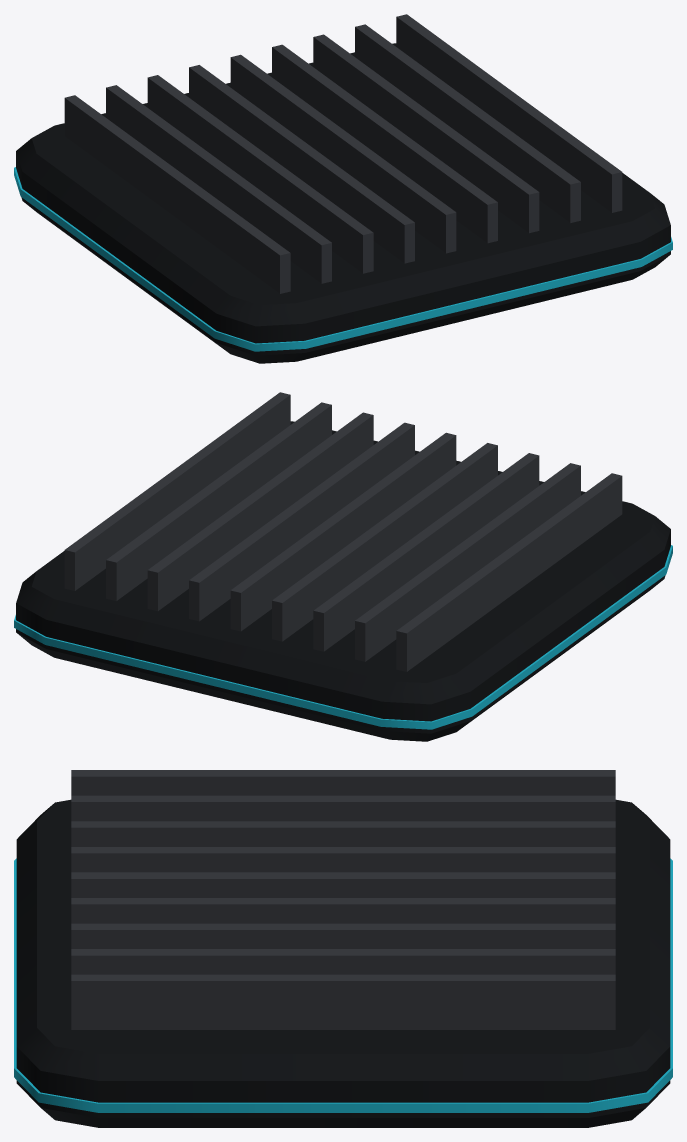
3 views of the same model, one above another, from view 1: azimuth 30°, elevation 25°; view 2: azimuth 150°, elevation 25°; view 3: azimuth 270°, elevation 25° (orthographic). The views are drawn at different scales.
Visible parts, largest first — view 1: n2_rx; view 2: n2_rx; view 3: n2_rx.
Boxes of the visible parts, x1,y1,x2,y2 form: n2_rx: [14, 14, 672, 363]; n2_rx: [14, 392, 672, 741]; n2_rx: [14, 770, 672, 1127].
Size of the model in its own units: 0.968 by 0.199 by 0.968.
